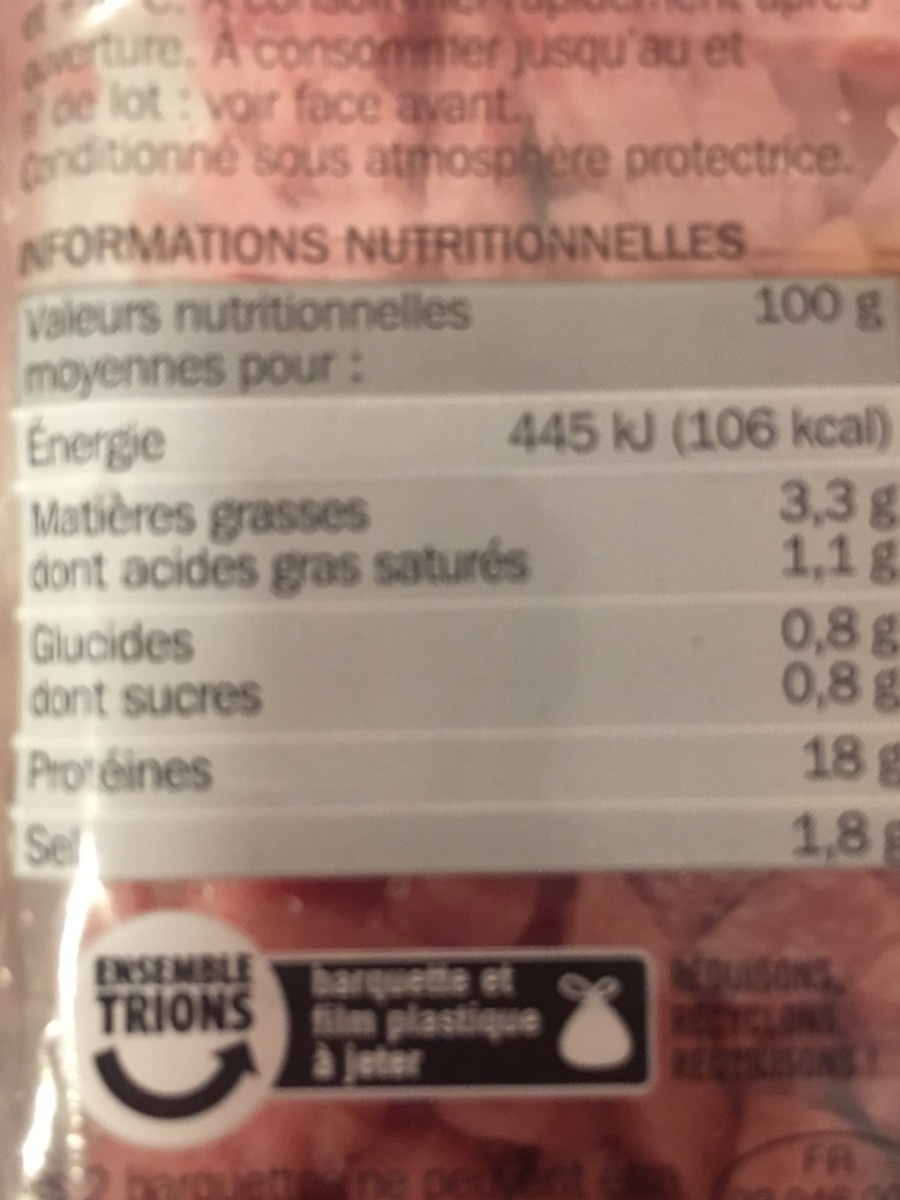column: (27, 292, 502, 867), (510, 287, 900, 867)
table: (12, 280, 900, 891)
